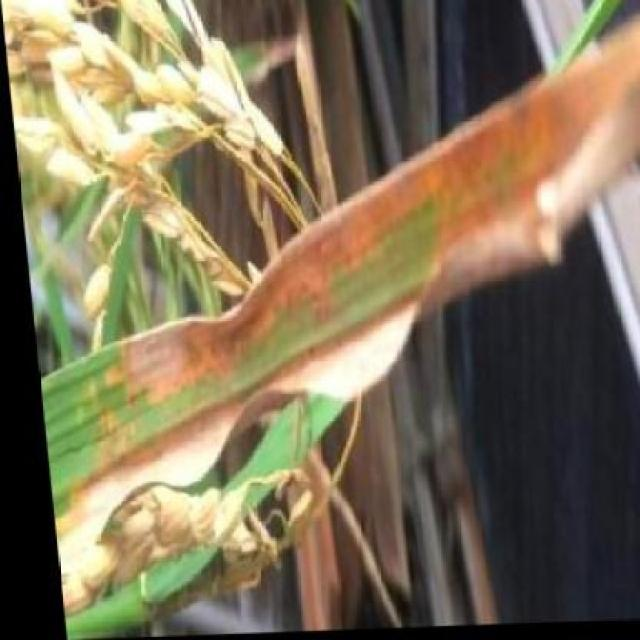Brown_Spot: (23, 245, 460, 450)
